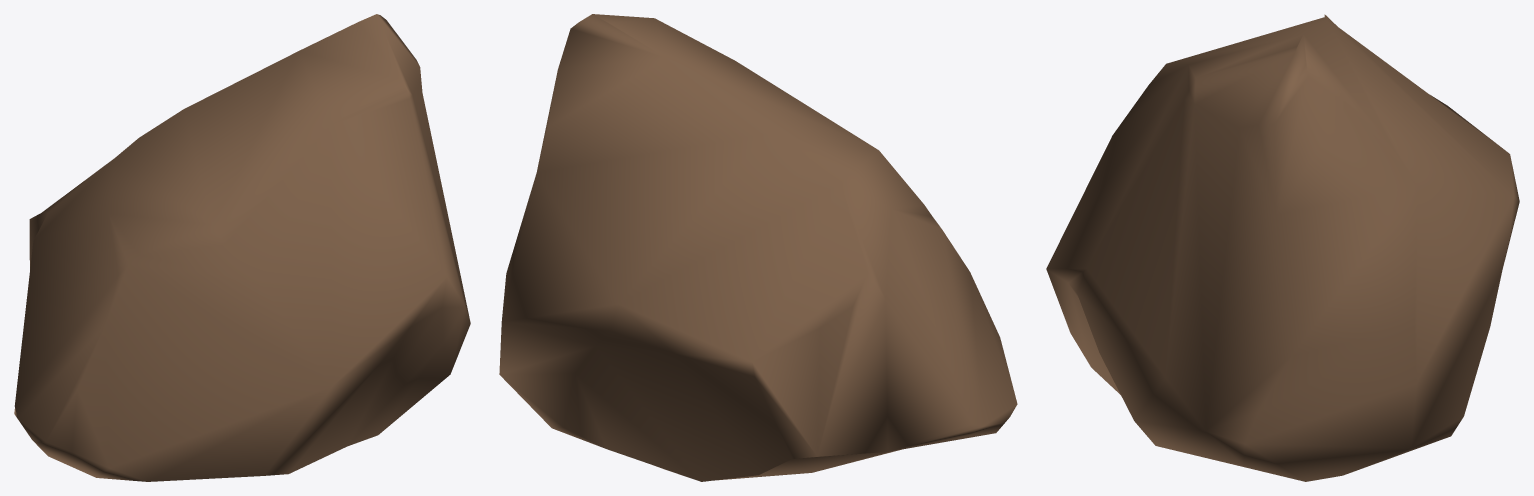
The model's file is SM_rock04_low.fbx.
The picture shows the model from 3 angles, left to right: view 1: azimuth 30°, elevation 25°; view 2: azimuth 150°, elevation 25°; view 3: azimuth 270°, elevation 25°; orthographic projection. The views are drawn at different scales.
Parts seen in each view (by area): view 1: polySurface533; view 2: polySurface533; view 3: polySurface533.
Part boxes in pixels (<box>): polySurface533: <box>14,14,470,481</box>; polySurface533: <box>499,14,1017,481</box>; polySurface533: <box>1046,14,1519,481</box>.
Size of the model in its own units: 61.2 by 51.96 by 49.16.
